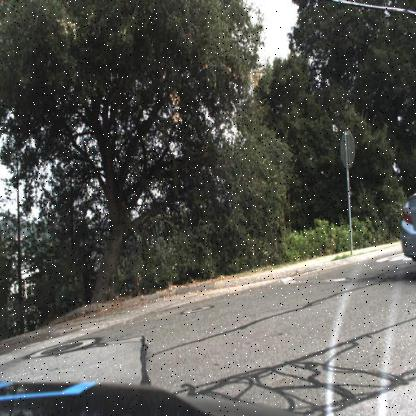car: (397, 178, 415, 271)
